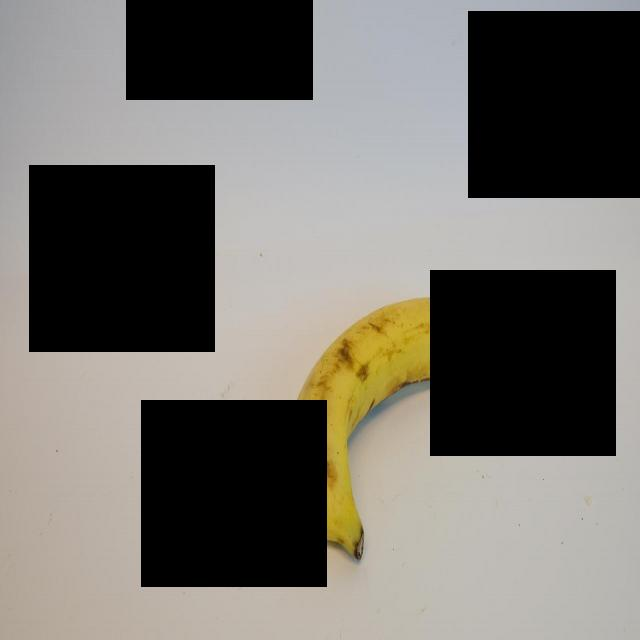banana: (282, 288, 481, 562)
